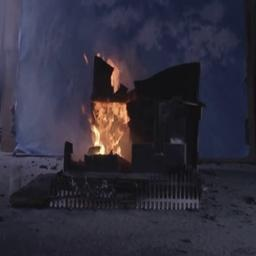fire: (78, 56, 144, 155)
